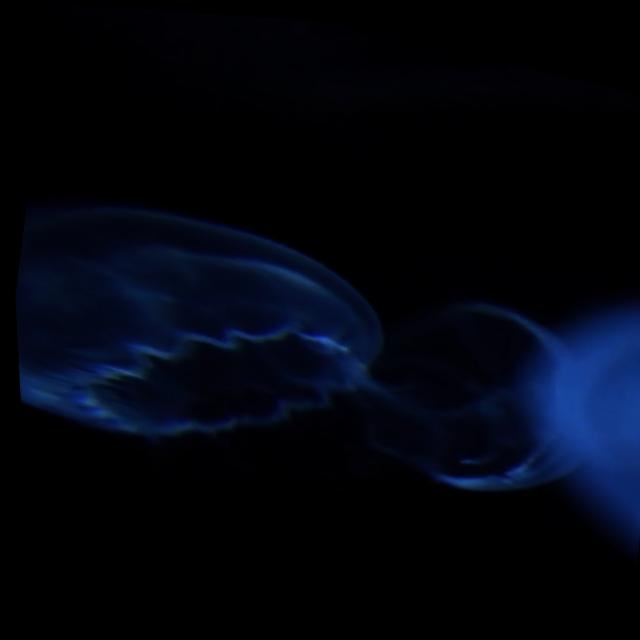Moon-jellyfish: (12, 195, 378, 436), (304, 286, 583, 485)
